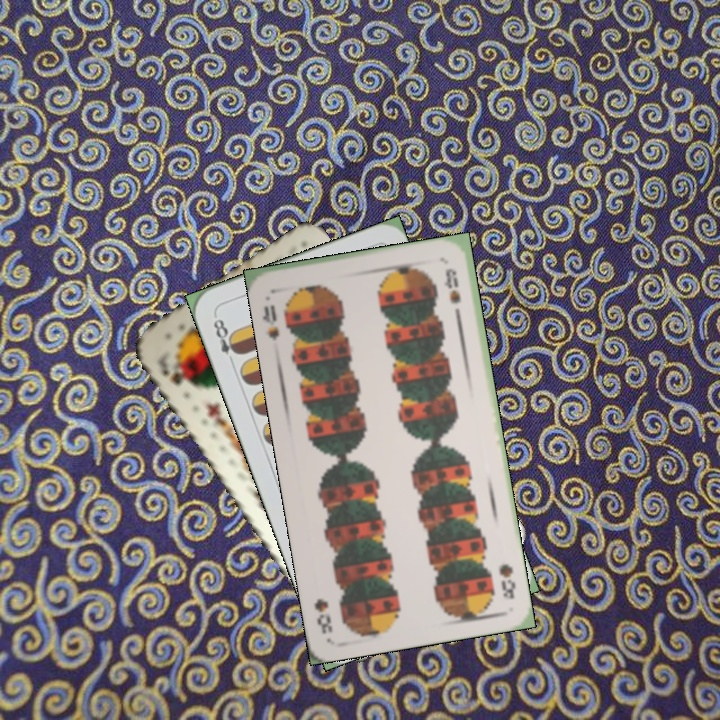E8: (209, 311, 243, 368)
S8: (495, 559, 518, 602), (258, 301, 282, 342)
SK: (153, 358, 196, 391)
